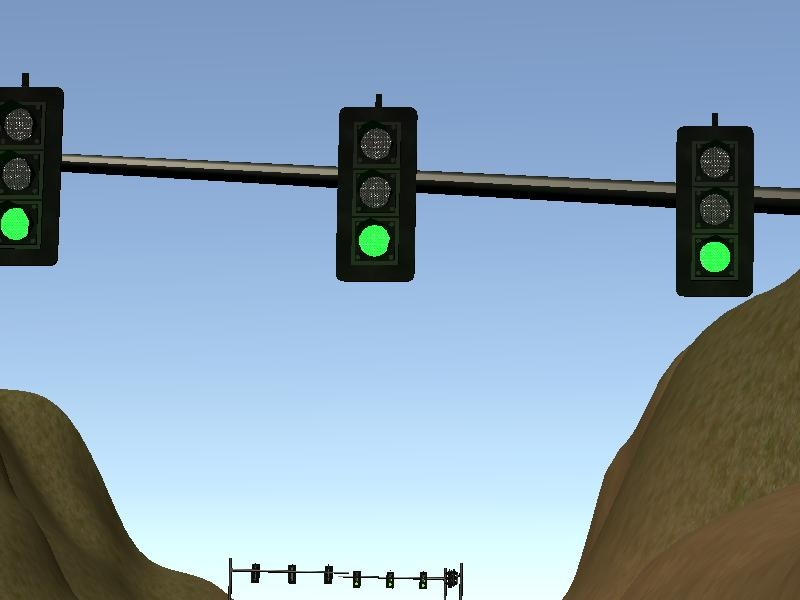green: (333, 107, 416, 280), (674, 122, 757, 295), (1, 89, 63, 263), (352, 570, 362, 589), (385, 572, 395, 589), (419, 571, 427, 591)
